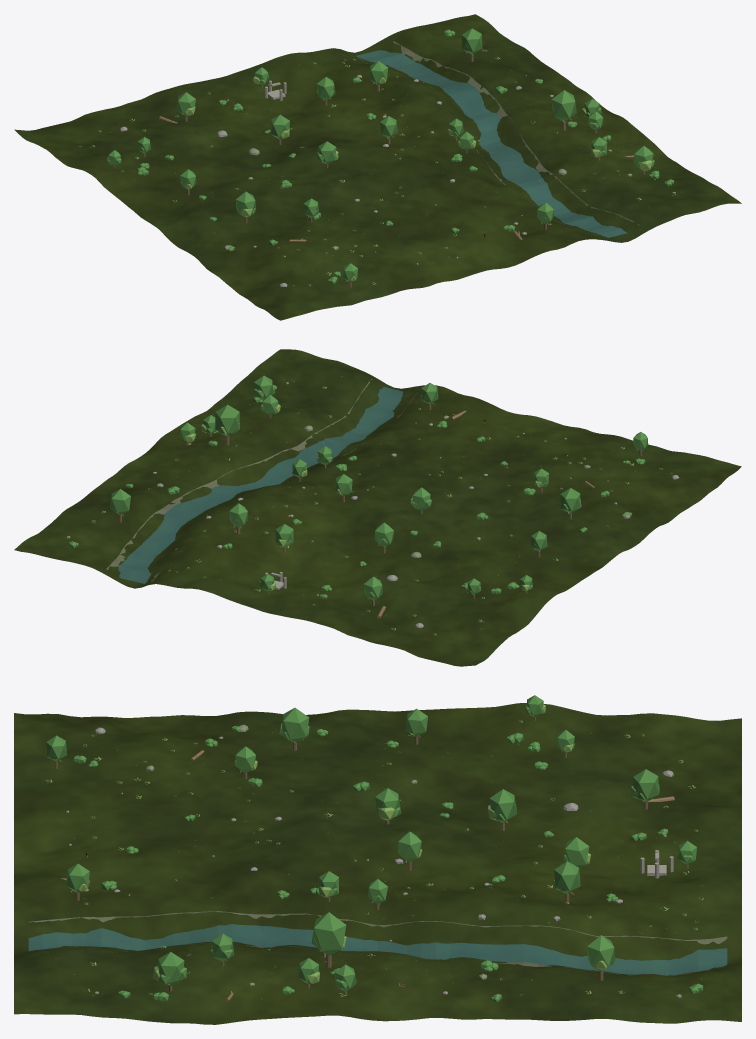
File: JungleLevel.glb
The picture shows the model from 3 angles, top to bottom: view 1: azimuth 30°, elevation 25°; view 2: azimuth 150°, elevation 25°; view 3: azimuth 270°, elevation 25°; orthographic projection. The views are drawn at different scales.
Visible parts, largest first — view 1: Terrain, River_Water, RiverBank_R, tree_002.002; view 2: Terrain, River_Water, RiverBank_R, tree_002.002; view 3: Terrain, River_Water, RiverBank_L, tree_002.002, tree_003, tree_001.001, tree_006.002, tree_002.001, tree_004.001, tree_001.002, tree_004, tree_006.001 (+3 smaller).
Boxes of the visible parts, x1=… form: Terrain: x1=14, y1=14, x2=741, y2=320; River_Water: x1=356, y1=50, x2=627, y2=239; RiverBank_R: x1=393, y1=41, x2=639, y2=225; tree_002.002: x1=551, y1=90, x2=576, y2=130; Terrain: x1=14, y1=349, x2=741, y2=666; River_Water: x1=118, y1=387, x2=402, y2=583; RiverBank_R: x1=106, y1=379, x2=372, y2=569; tree_002.002: x1=215, y1=404, x2=239, y2=445; Terrain: x1=14, y1=703, x2=741, y2=1024; River_Water: x1=28, y1=924, x2=727, y2=975; RiverBank_L: x1=29, y1=911, x2=727, y2=944; tree_002.002: x1=311, y1=912, x2=346, y2=967; tree_003: x1=153, y1=952, x2=186, y2=991; tree_001.001: x1=279, y1=707, x2=309, y2=750; tree_006.002: x1=587, y1=935, x2=615, y2=980; tree_002.001: x1=488, y1=789, x2=517, y2=830; tree_004.001: x1=631, y1=769, x2=659, y2=809; tree_001.002: x1=554, y1=861, x2=580, y2=902; tree_004: x1=375, y1=788, x2=401, y2=824; tree_006.001: x1=563, y1=837, x2=590, y2=867.
Size of the model in its own units: 120 by 15.46 by 120.
19 materials, 2 textured.
